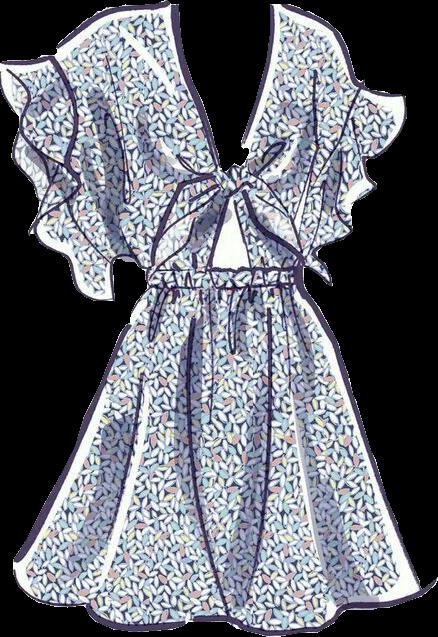Bodice: (86, 0, 335, 290)
Hemline: (10, 556, 425, 636)
Neckline: (170, 1, 276, 176), (203, 189, 255, 273), (142, 263, 303, 275)
Skirt: (13, 286, 421, 636)
Sleeve: (0, 20, 132, 300), (303, 28, 406, 285)
Sleeveline: (84, 19, 136, 261), (303, 32, 337, 258)
Waistline: (143, 281, 305, 293)
